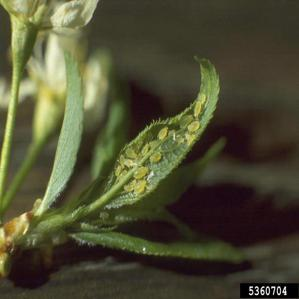Green peach aphid: (101, 65, 220, 214)
